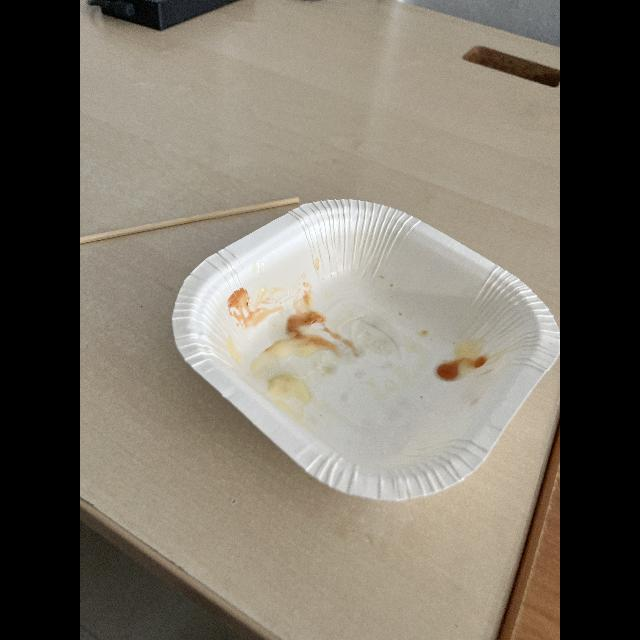cardboard_bowl: (168, 197, 560, 501)
stick: (80, 192, 306, 245)
